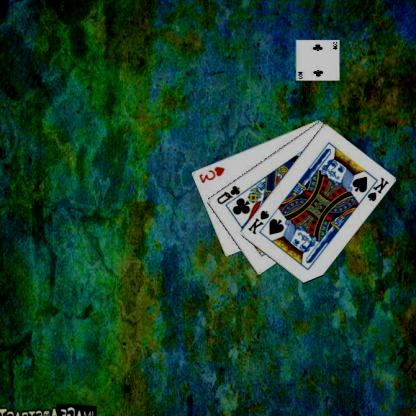3H: (198, 164, 228, 184)
KS: (362, 174, 392, 202), (246, 208, 272, 236)
QC: (215, 182, 243, 206)
